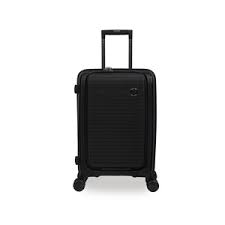suitcase: (71, 29, 160, 192)
